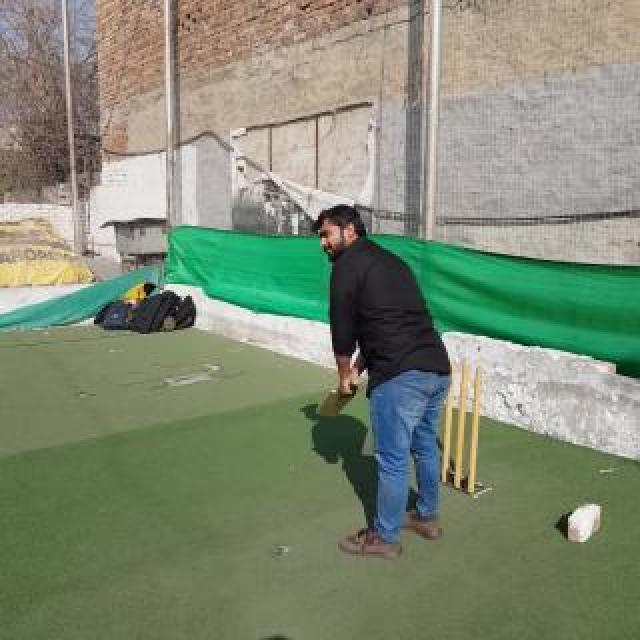bat: (317, 376, 361, 416)
